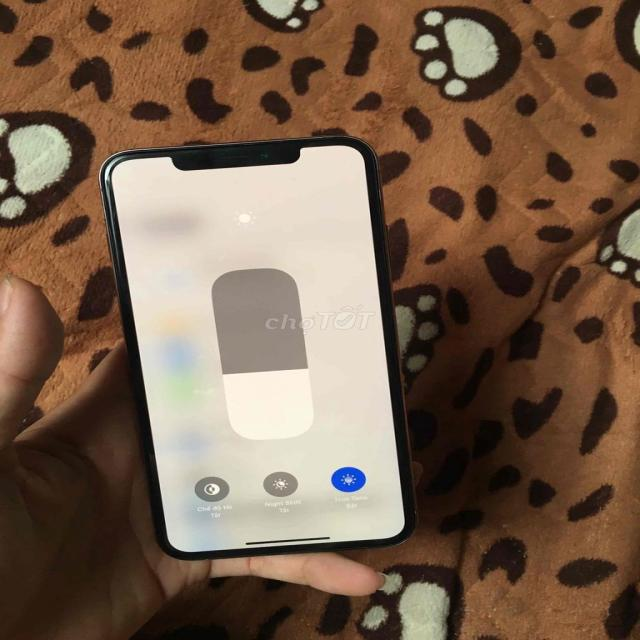gen_x_xs: (85, 133, 427, 568)
